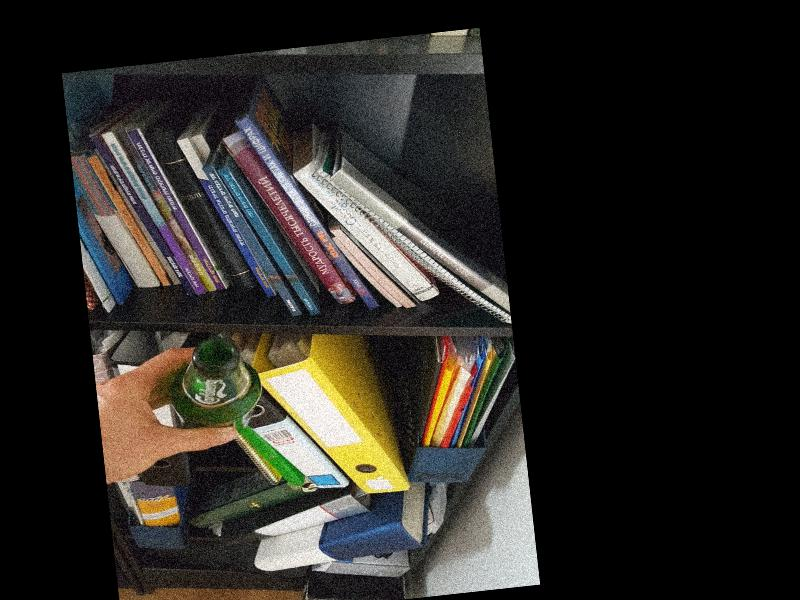Beer: (168, 336, 265, 439)
